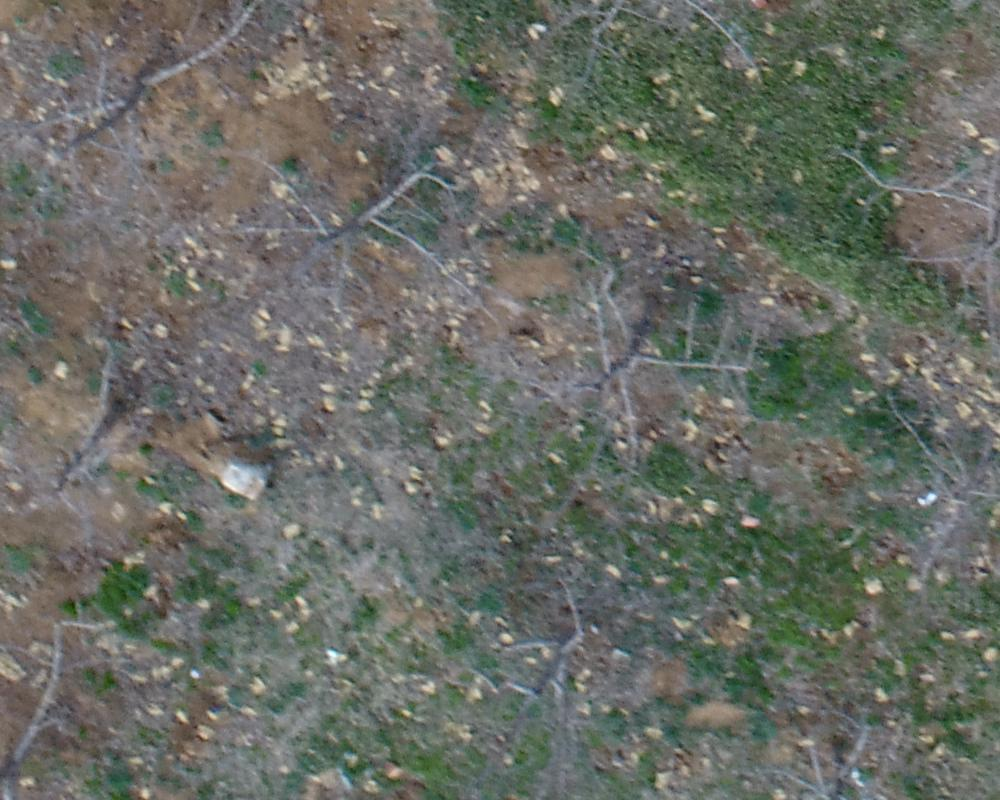apple: (214, 131, 531, 344), (535, 255, 791, 473), (10, 10, 304, 182), (832, 113, 990, 411), (10, 334, 202, 549), (446, 594, 646, 779), (863, 388, 990, 587), (517, 10, 767, 105), (710, 711, 925, 790)
